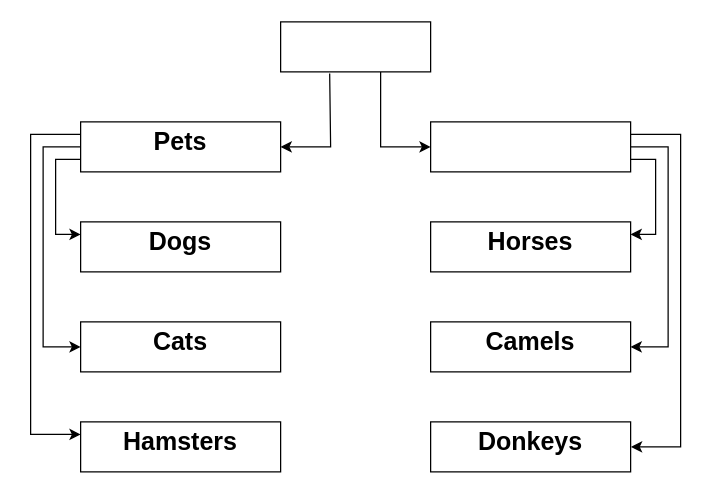
The diagram is 713 pixels wide and 494 high, and some of its shapes have lost their labels. Here are the shapes that lost their labels. From the top down, the centre of each, then its label:
At point 355,46: "Animals".
At point 530,146: "Wild_animals".
